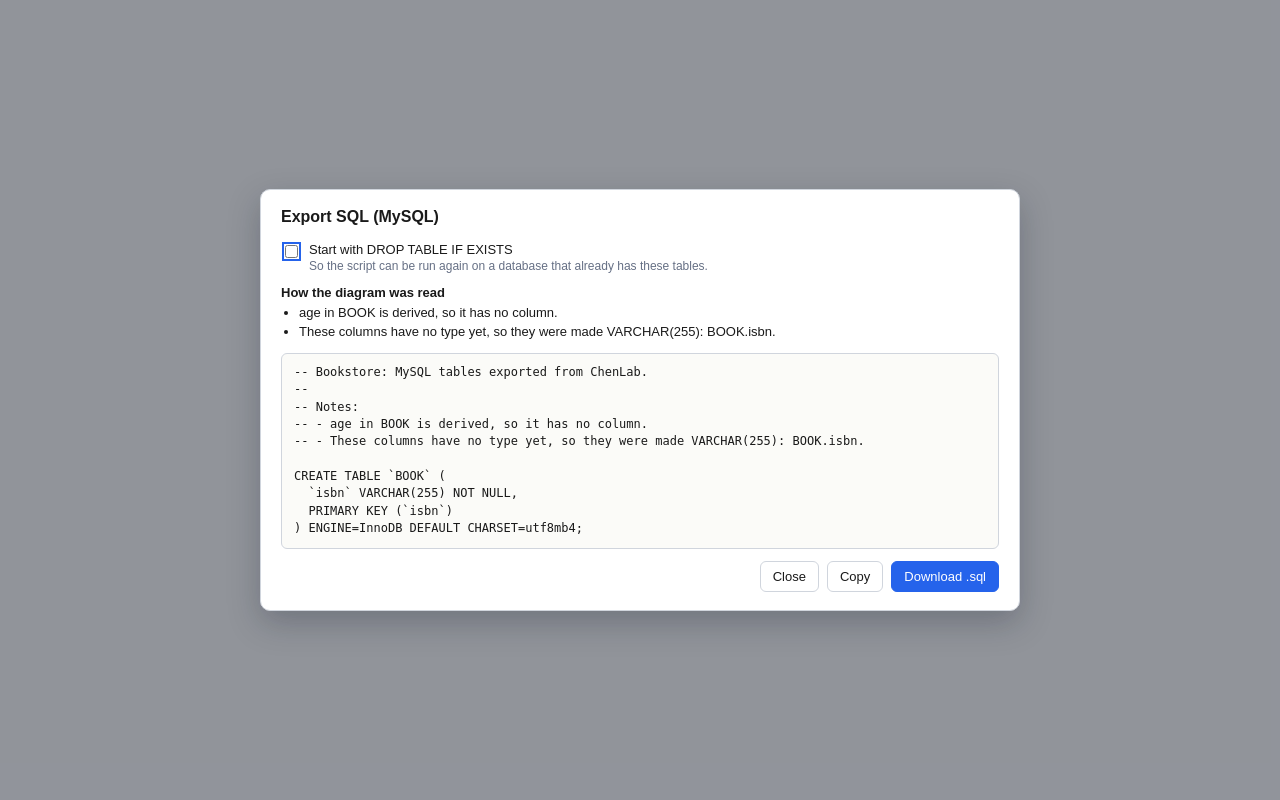
Test: SqlExportDialog › adds DROP TABLE statements when asked, and remembers the choice
Check: the text labelled "SQL" does not show "DROP TABLE", box [281,353,999,549]
Step 1. Click the checkbox labelled "Start with DROP TABLE IF EXISTS" → (292, 252), box [285,245,298,258]
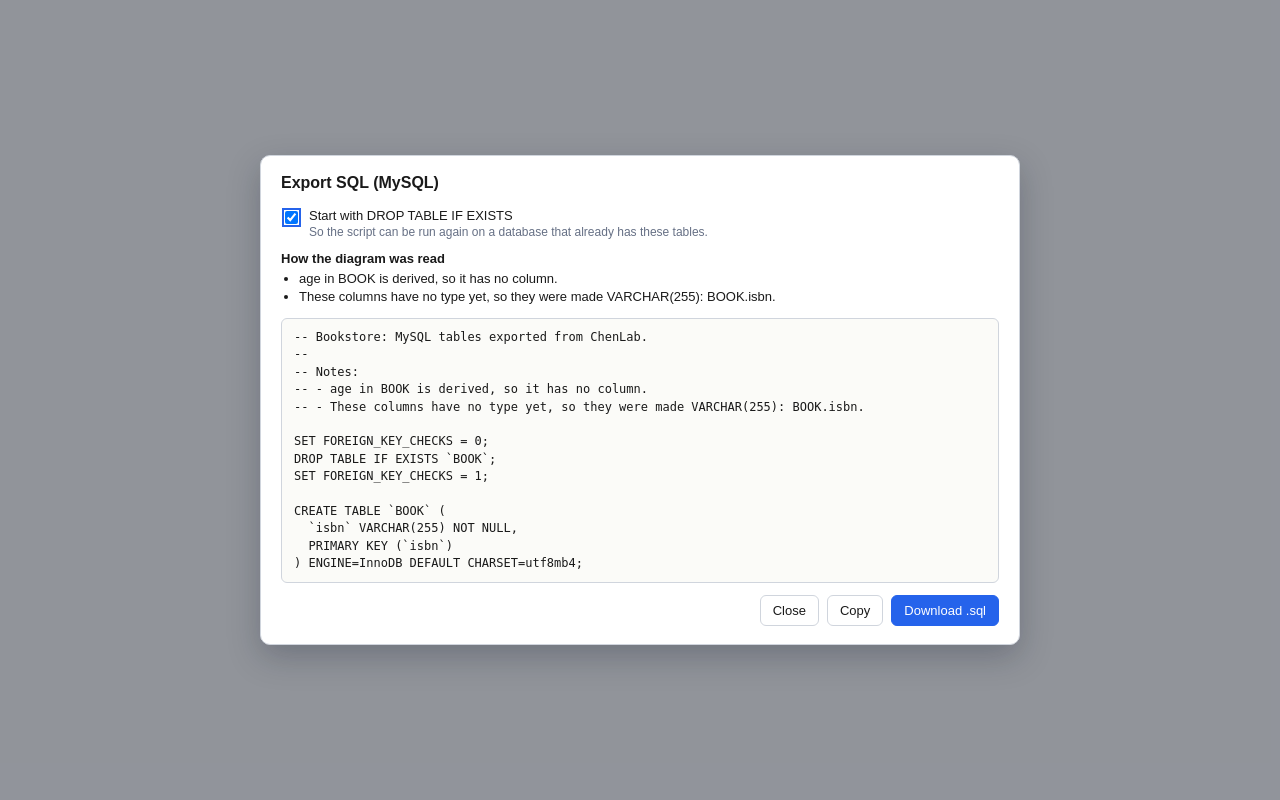
Check: the text labelled "SQL" shows "DROP TABLE IF EXISTS `BOOK`;", box [294,330,865,570]
